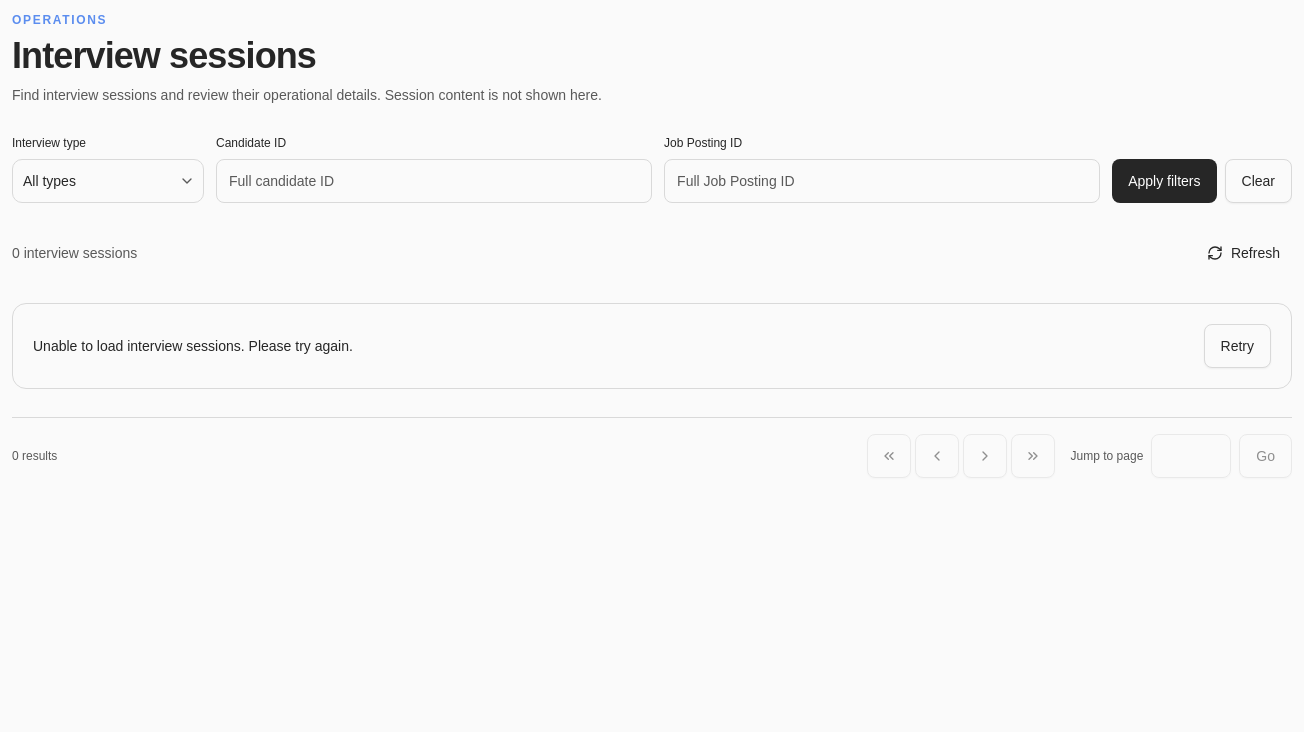
AdminInterviewSessions › shows an error state that retries the request
The image size is (1304, 732).
Expected: the text "Unable to load interview sessions. Please try again." is shown, [33,336,353,356]
Click the button "Retry". click: (1237,346)
box: [1204,324,1271,368]
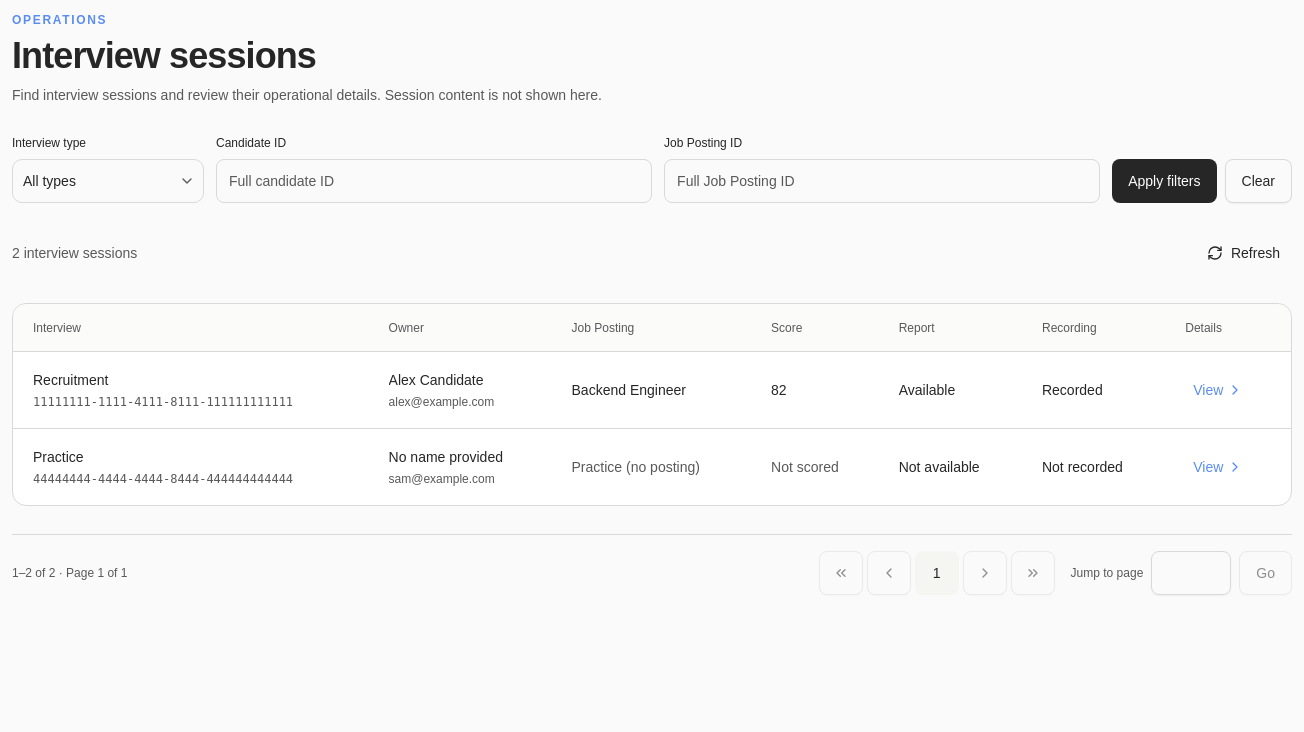
Expected: the text "2 interview sessions" is shown, [12,243,137,263]
